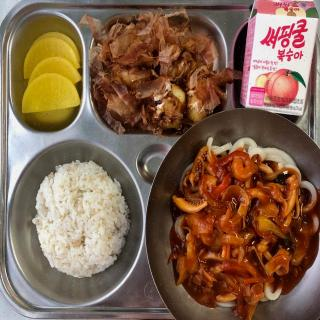Nasi: (28, 152, 135, 300)
